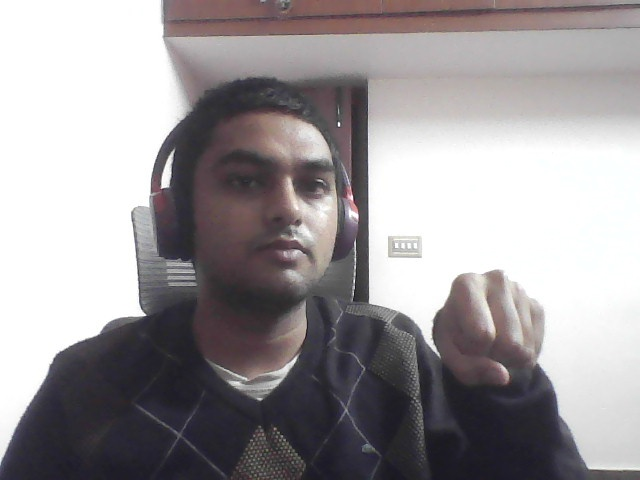Yes: (409, 243, 570, 434)
